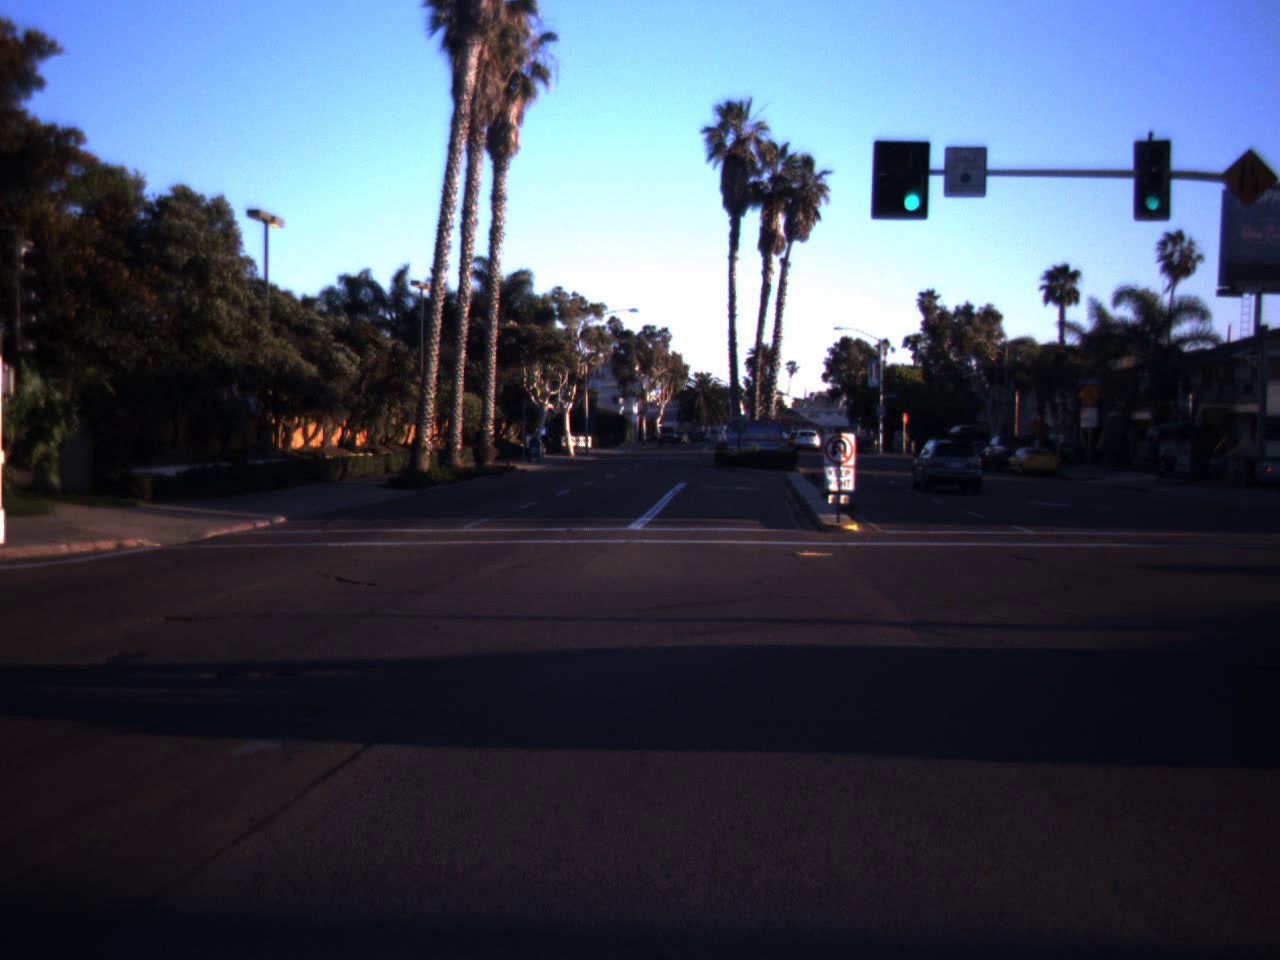go: (893, 142, 932, 217), (1138, 156, 1168, 216)
